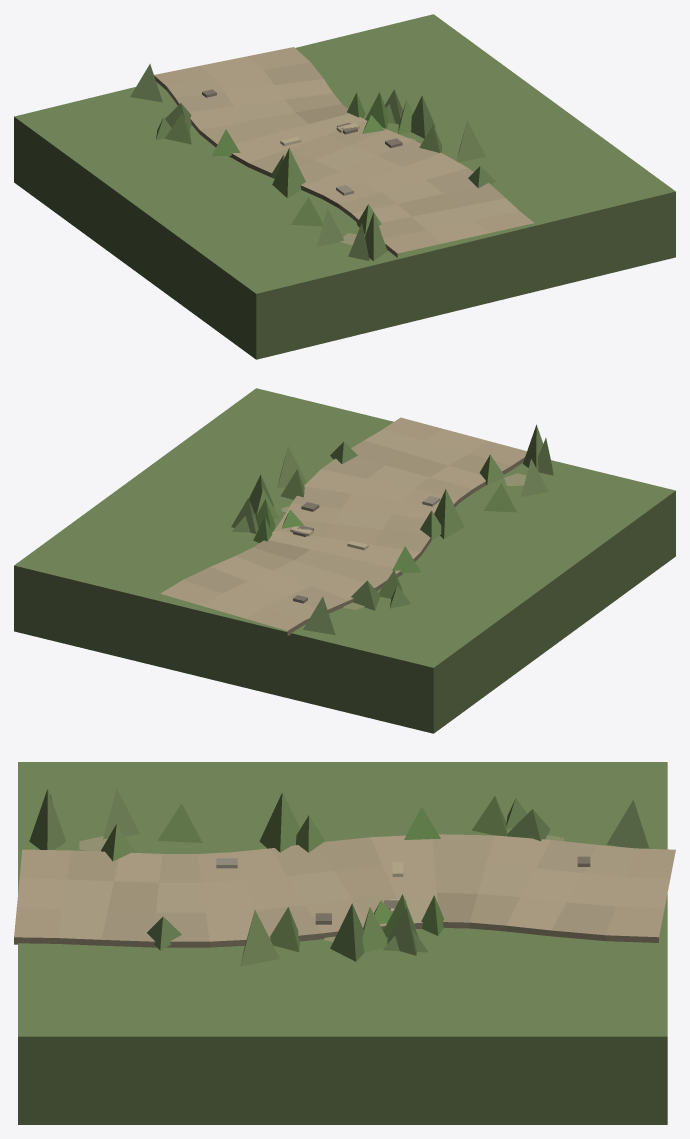
File: t_footpath_8.glb
The picture shows the model from 3 angles, top to bottom: view 1: azimuth 30°, elevation 25°; view 2: azimuth 150°, elevation 25°; view 3: azimuth 270°, elevation 25°; orthographic projection. The views are drawn at different scales.
Parts seen in each view (by area): view 1: t_footpath_8; view 2: t_footpath_8; view 3: t_footpath_8.
Part boxes in pixels (x1,y1,x2,y2): t_footpath_8: [14, 14, 675, 359]; t_footpath_8: [14, 388, 675, 733]; t_footpath_8: [14, 762, 675, 1124].
Bounding box in the file's own units: 2 × 0.496 × 2.04.
